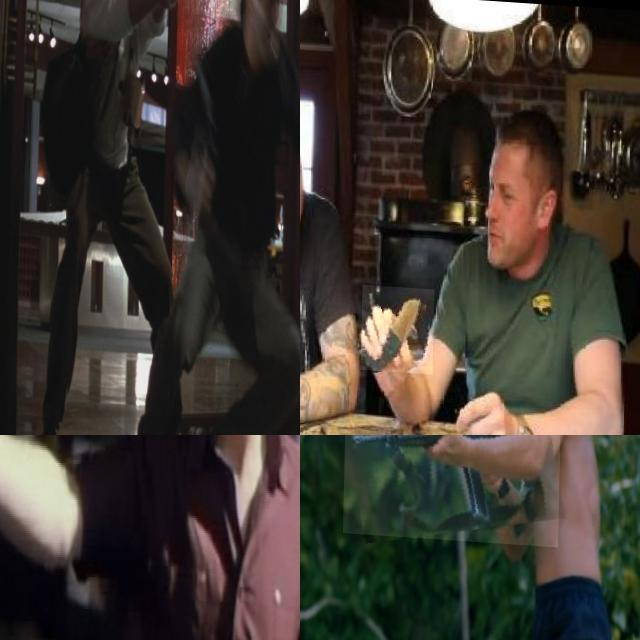-: (362, 280, 436, 370)
gun-knife-thesis - v11 Yolov5 augmented: (344, 435, 562, 540), (0, 435, 82, 537), (162, 0, 196, 33)
